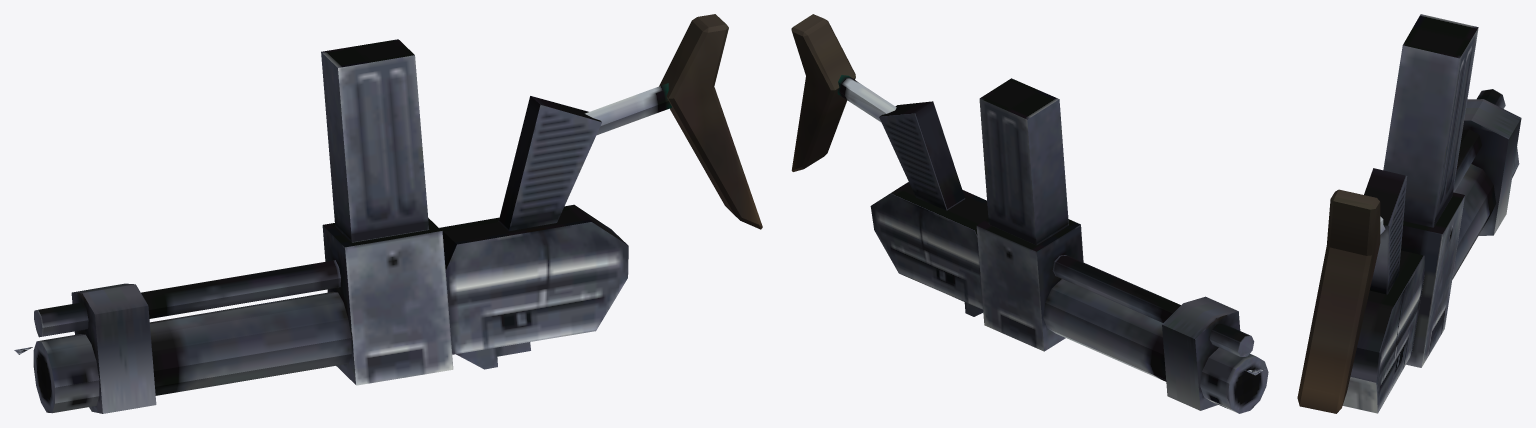
File: XRIFLE.bgf.obj
3 renders of one model, left to right at view 1: azimuth 30°, elevation 25°; view 2: azimuth 150°, elevation 25°; view 3: azimuth 270°, elevation 25°, orthographic. The views are drawn at different scales.
Parts seen in each view (by area): view 1: BARREL; view 2: BARREL; view 3: BARREL.
Boxes of the visible parts, left/top/right/bottom form: BARREL: left=33, top=14, right=762, bottom=413; BARREL: left=791, top=14, right=1268, bottom=413; BARREL: left=1297, top=14, right=1521, bottom=413.
Bounding box in the file's own units: 1.03 × 0.467 × 0.298.
